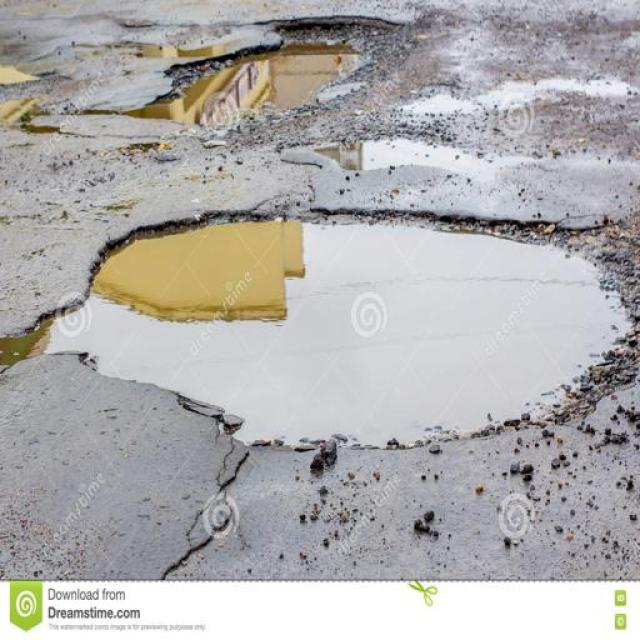puddle: (81, 209, 618, 474), (169, 46, 329, 148)
